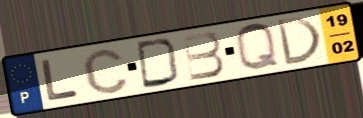B: (180, 30, 228, 83)
C: (79, 46, 131, 96)
D: (274, 16, 325, 67), (134, 37, 182, 90)
L: (38, 57, 82, 103)
Q: (233, 22, 282, 73)
